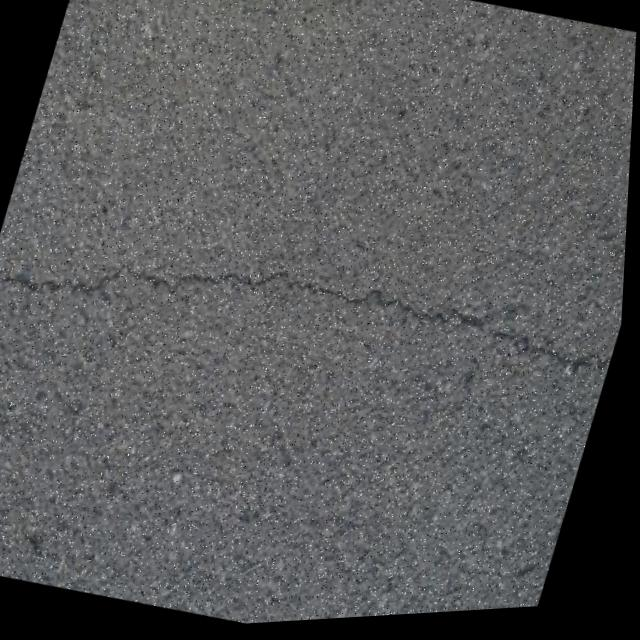Crack: (0, 176, 631, 451)
